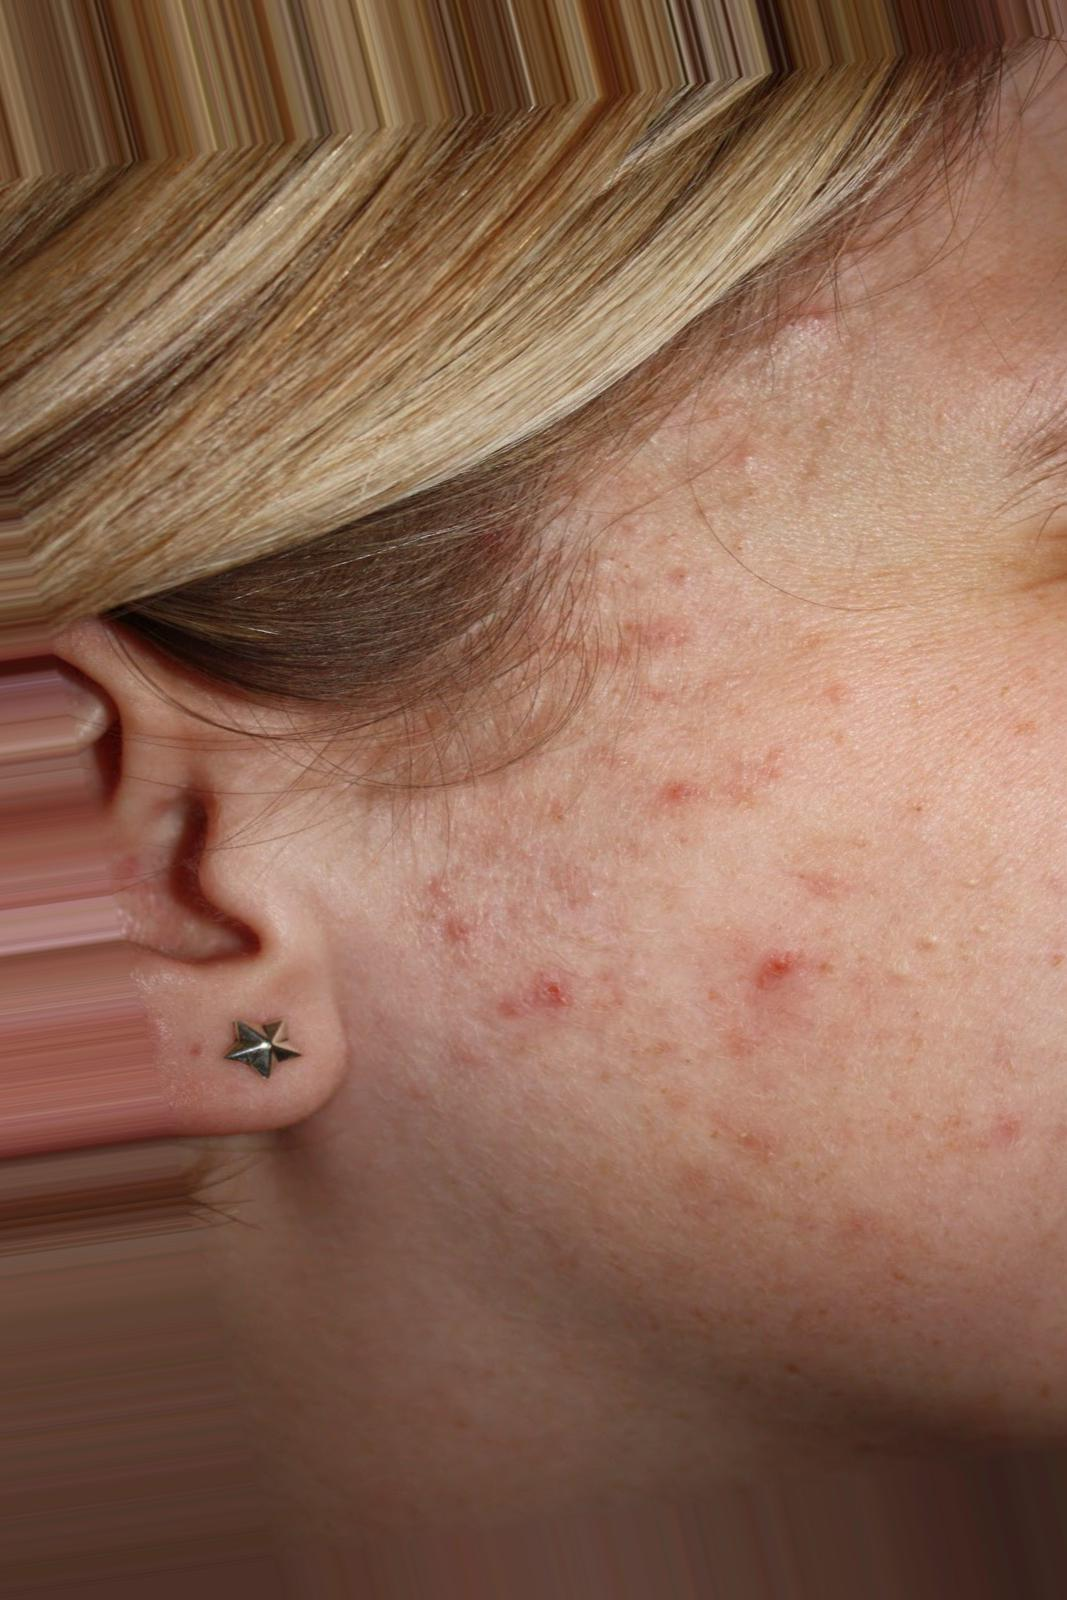Acne: (547, 521, 716, 769), (397, 901, 593, 1060), (722, 912, 859, 1089), (767, 282, 873, 402)
